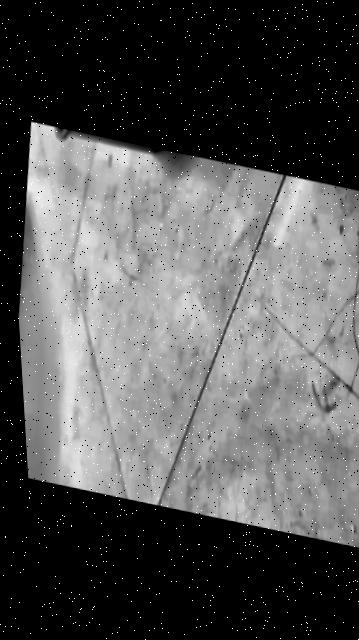pot: (47, 126, 166, 163)
